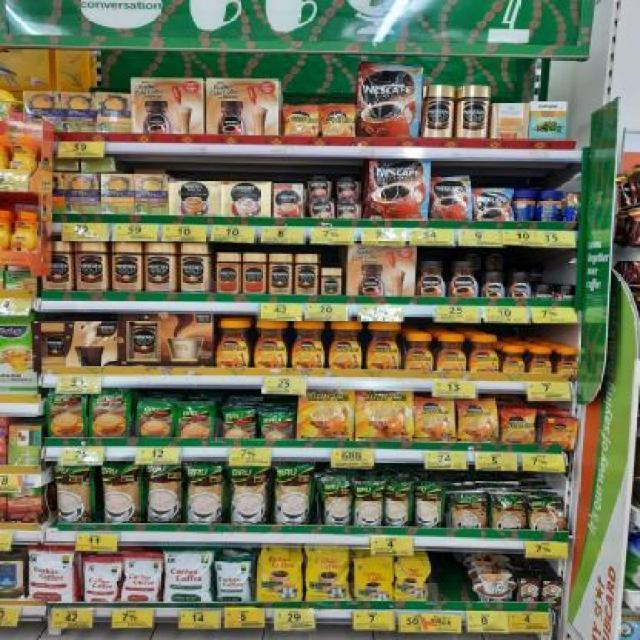Coffee: (358, 68, 420, 137), (369, 161, 432, 218), (413, 397, 456, 441), (456, 399, 498, 444), (366, 323, 403, 370), (290, 322, 326, 370), (328, 321, 364, 368), (433, 176, 473, 218), (214, 320, 250, 366), (77, 240, 110, 290), (458, 85, 490, 136), (254, 320, 287, 369), (423, 85, 453, 138), (112, 240, 143, 288), (147, 242, 176, 292), (181, 243, 210, 292), (472, 189, 514, 220), (501, 410, 536, 444), (50, 240, 73, 288), (418, 259, 447, 296), (437, 333, 466, 370), (322, 104, 356, 134), (286, 107, 320, 136), (268, 253, 292, 294), (471, 336, 498, 372), (407, 333, 432, 370), (452, 262, 478, 296), (295, 255, 316, 294), (480, 272, 506, 298), (558, 348, 581, 375), (509, 270, 530, 298), (530, 346, 552, 372), (504, 346, 524, 372), (322, 269, 341, 295), (558, 284, 576, 298), (537, 284, 553, 298)
